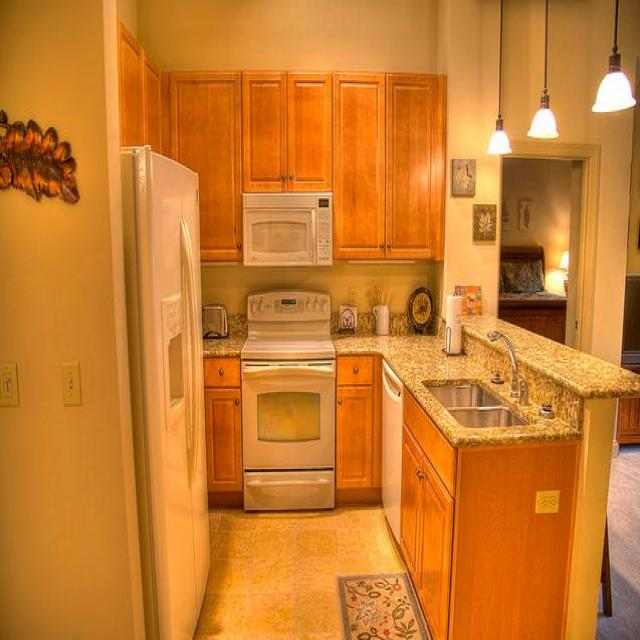dishwasher: (381, 354, 401, 546)
